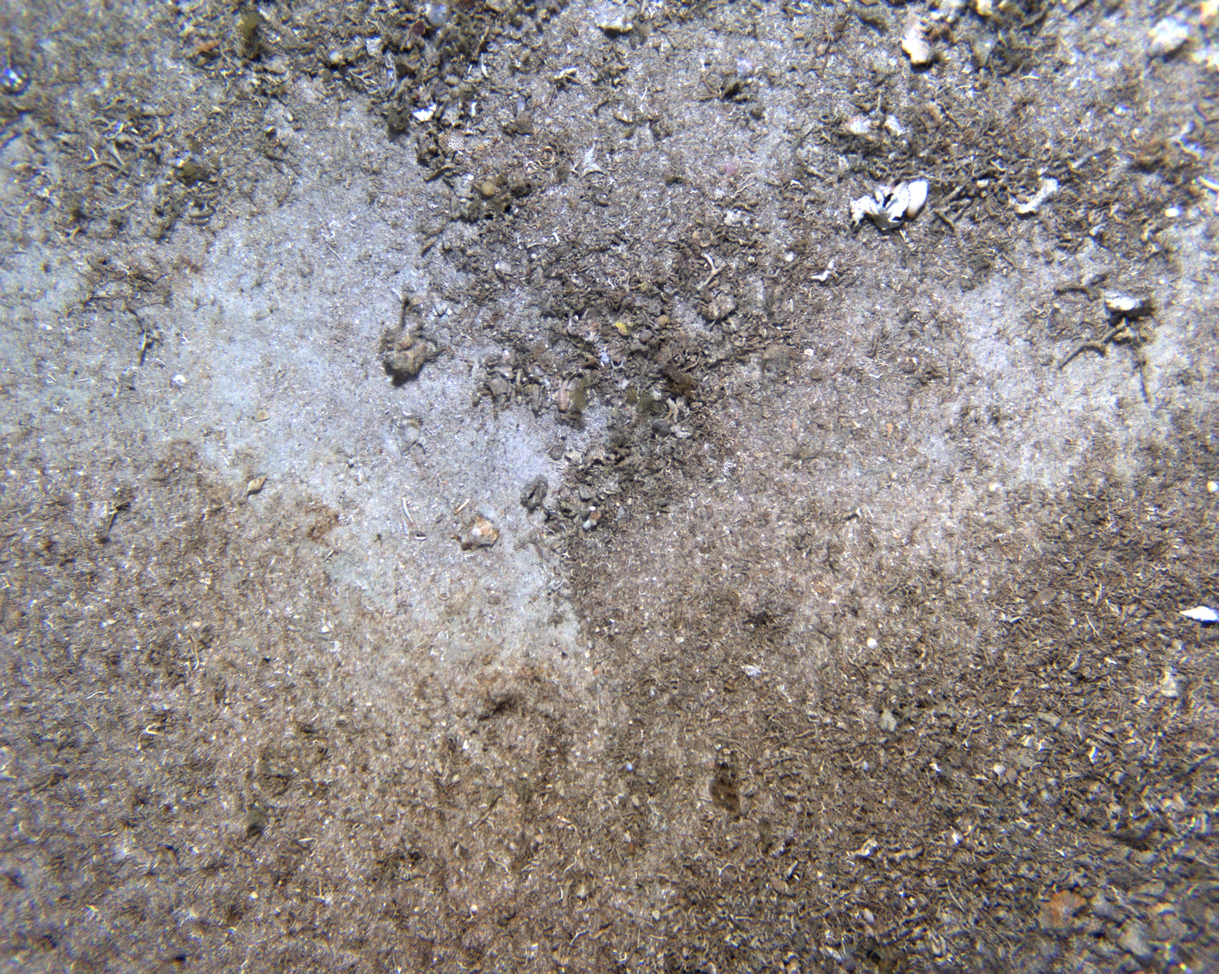Brachionichthyidae: (551, 369, 581, 413)
